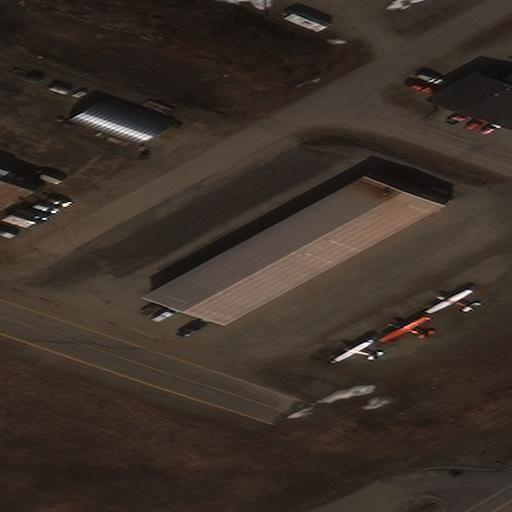Small Civil Transport: (377, 314, 428, 340), (328, 339, 377, 363), (424, 288, 473, 312)
